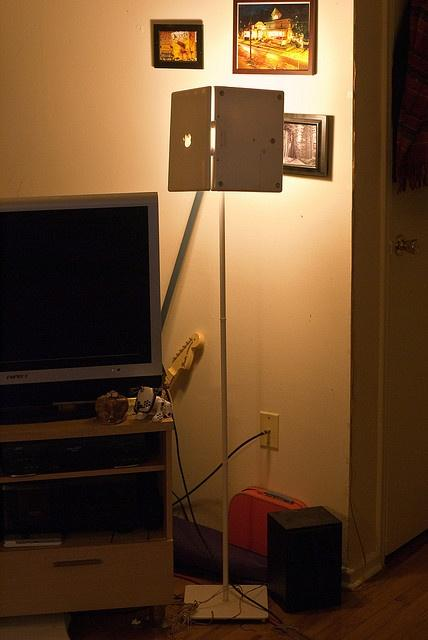AIO PC-Monitor-TV: (0, 189, 163, 387)
